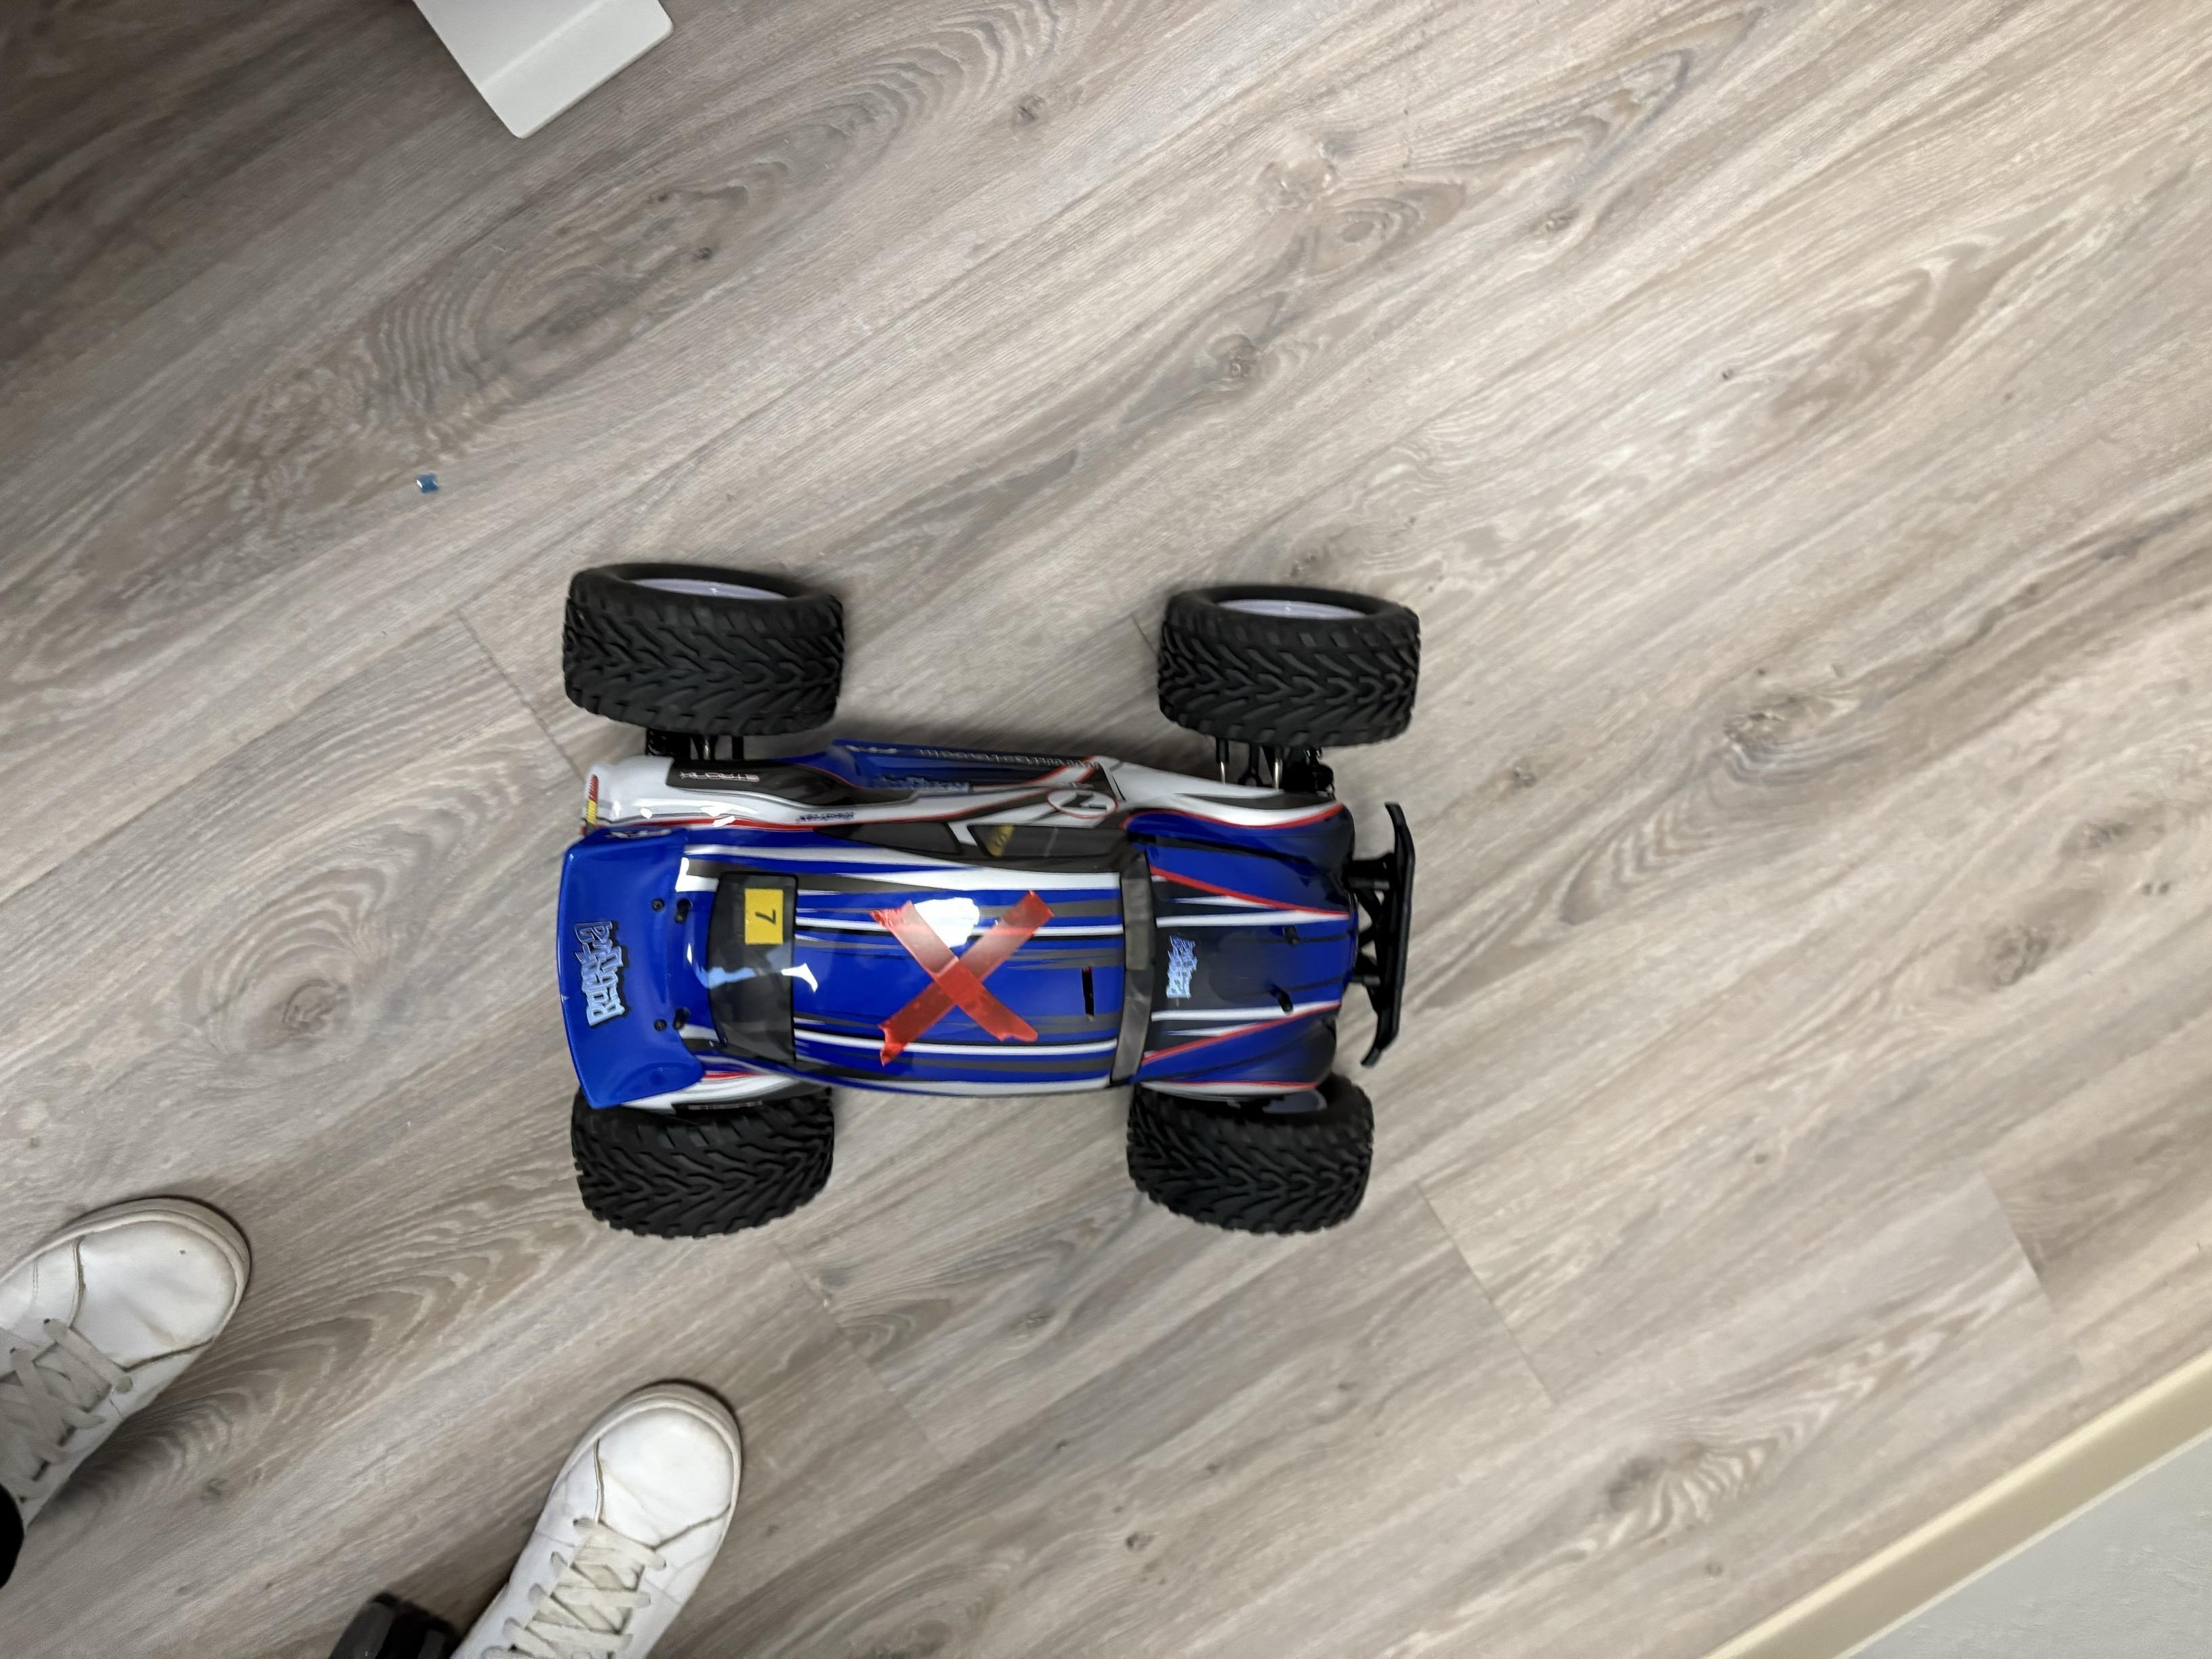Car: (428, 504, 1557, 1314)
